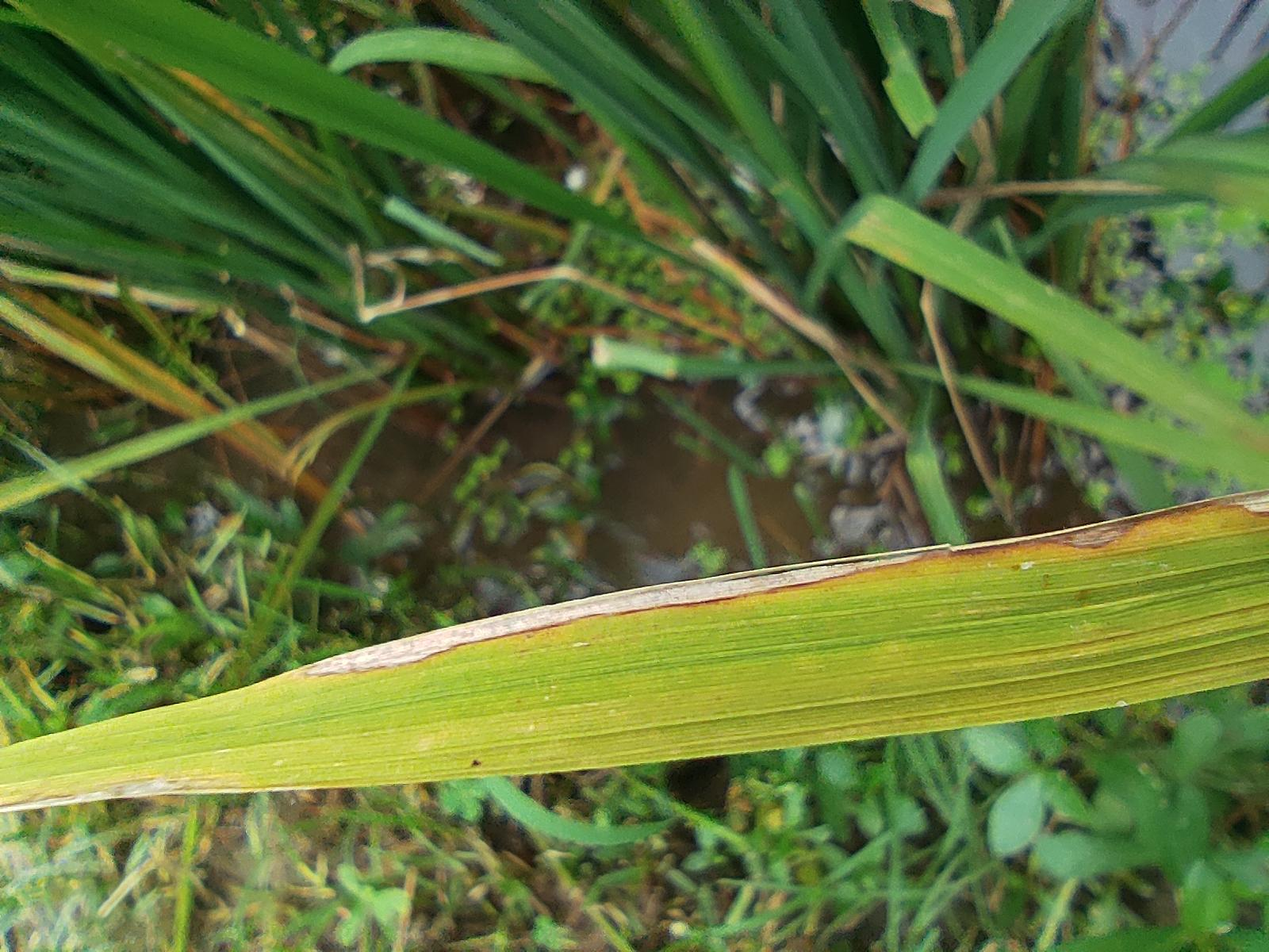BLB: (364, 223, 529, 692), (188, 0, 232, 248)
LEAF: (187, 0, 613, 951)
